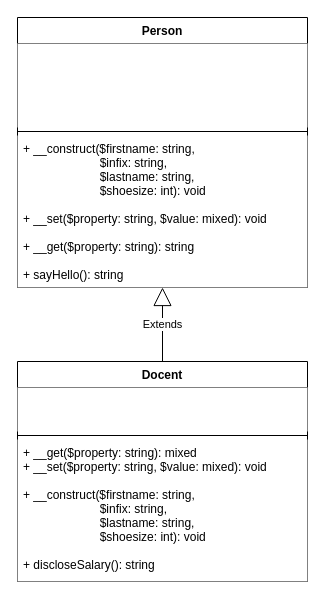
Image size: 325x602. Some labels were removed from this diagram. Here are the shapes that lost their labels. From the top down, the centre of each, then its label:
At pixel 162 85: "# $firstname: string # $infix: string # $lastname: string # $shoesize: int".
At pixel 162 409: "- $salary: int - $teacherNumber: string".
